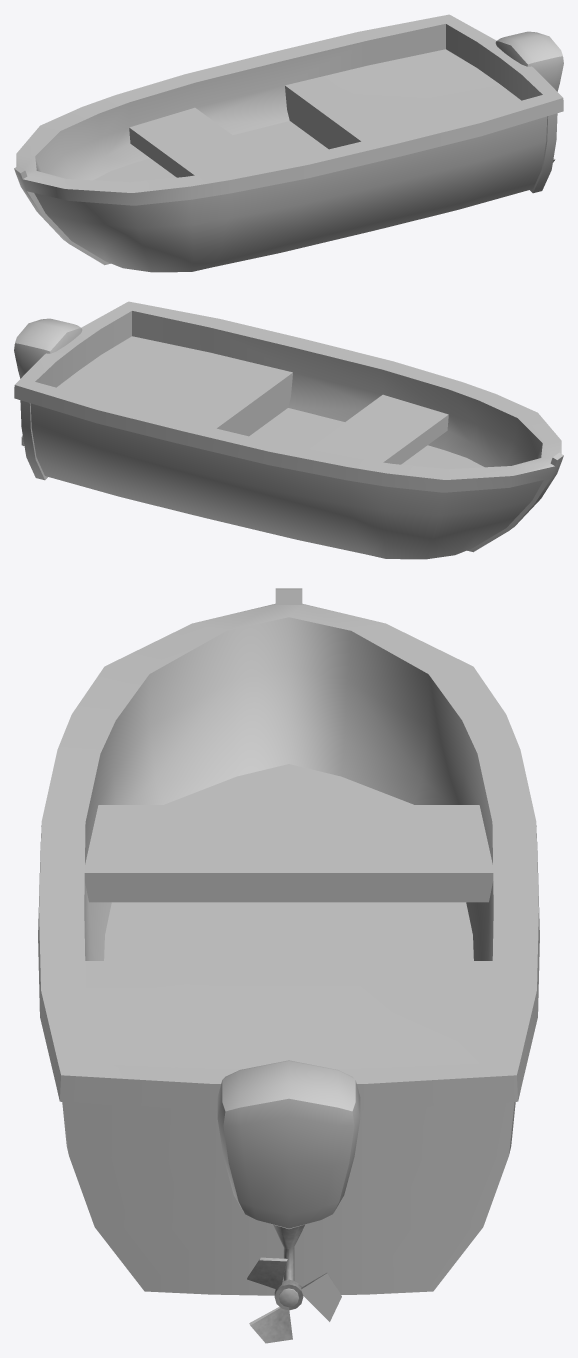
File: WoodenBoat.fbx
3 renders of one model, top to bottom at view 1: azimuth 30°, elevation 25°; view 2: azimuth 150°, elevation 25°; view 3: azimuth 270°, elevation 25°, orthographic. The views are drawn at different scales.
Parts seen in each view (by area): view 1: Boat, Box001; view 2: Boat, Box001; view 3: Boat, Box001.
Boxes of the visible parts, bbox=[...] form: Boat: bbox=[14, 14, 563, 272]; Box001: bbox=[495, 31, 563, 162]; Boat: bbox=[14, 301, 563, 559]; Box001: bbox=[14, 318, 82, 445]; Boat: bbox=[38, 588, 539, 1295]; Box001: bbox=[217, 1060, 360, 1343].
Bounding box in the file's own units: 410 × 94.49 × 167.
